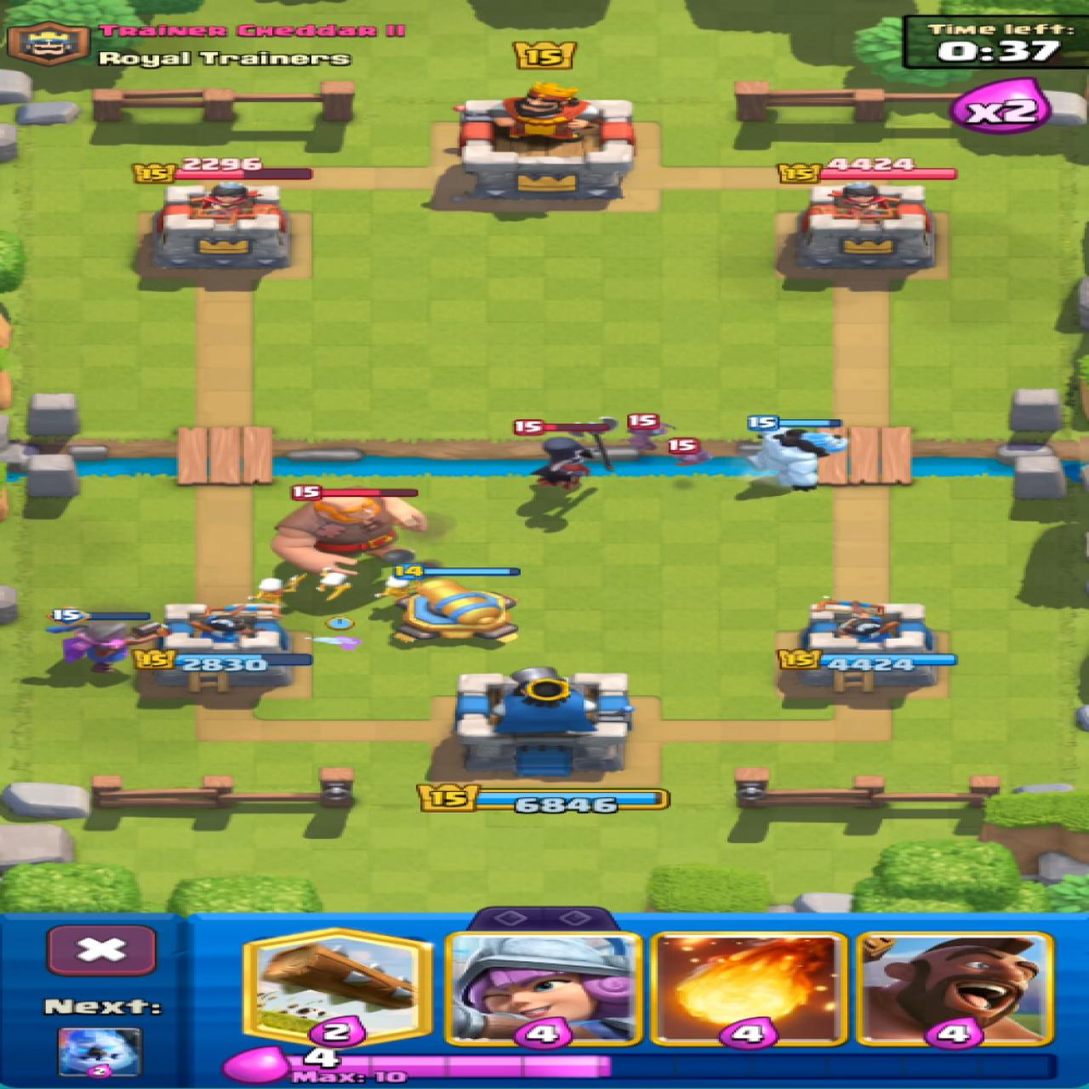Enemy-Bat: (627, 413, 673, 451), (669, 439, 712, 466)
Enemy-Giant: (272, 497, 427, 575)
Enemy-KingTower: (457, 80, 636, 202)
Enemy-NightWitch: (514, 417, 616, 490)
Enemy-PrincessTower: (791, 183, 932, 280), (152, 182, 287, 267)
